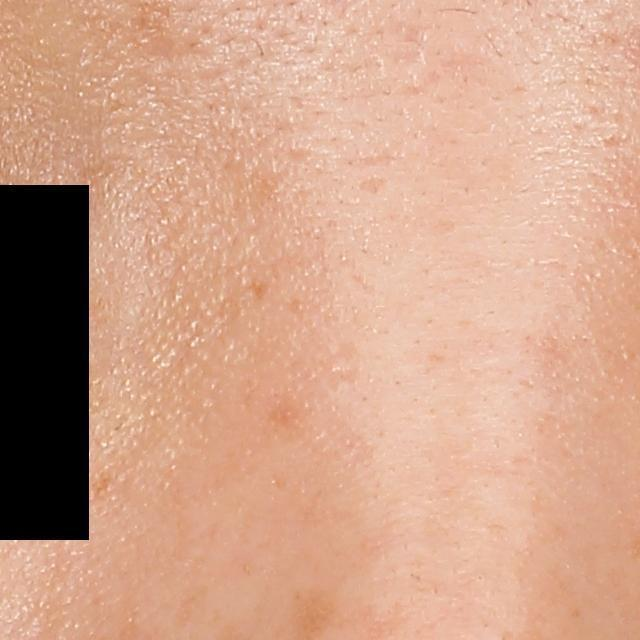melasma: (85, 473, 113, 500)
